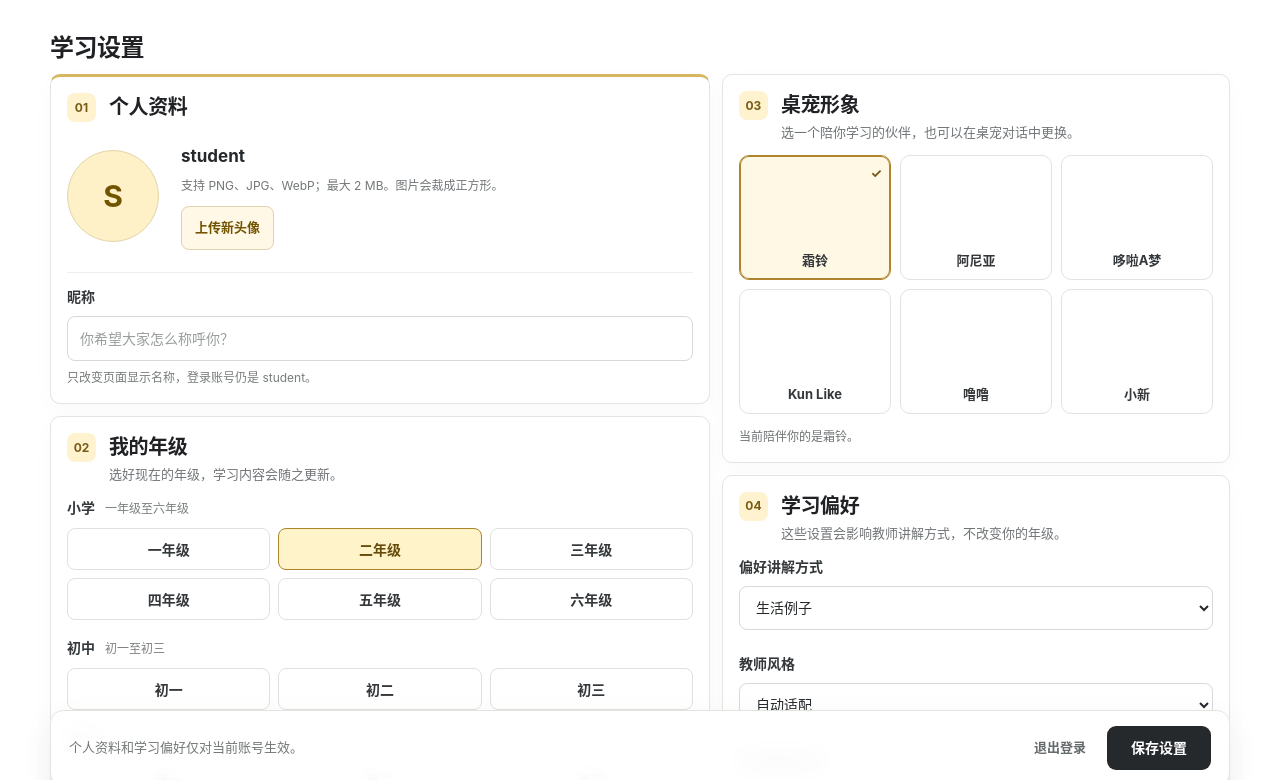
Test: keeps a changed teacher style visible when saving fails
Select "温柔鼓励" in the dropdown labelled "教师风格" at (976, 705), box [739,683,1213,727]
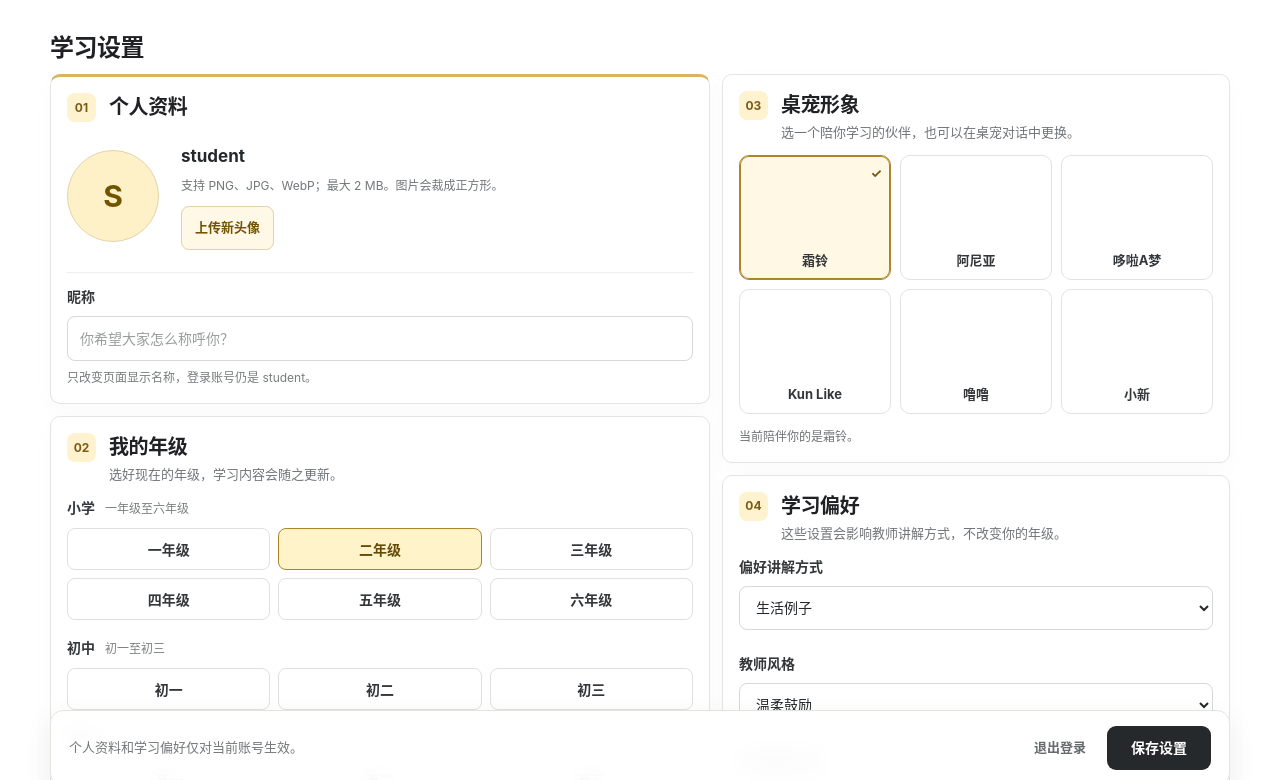
Click the button "保存设置" at (1159, 748), box [1107,726,1211,770]
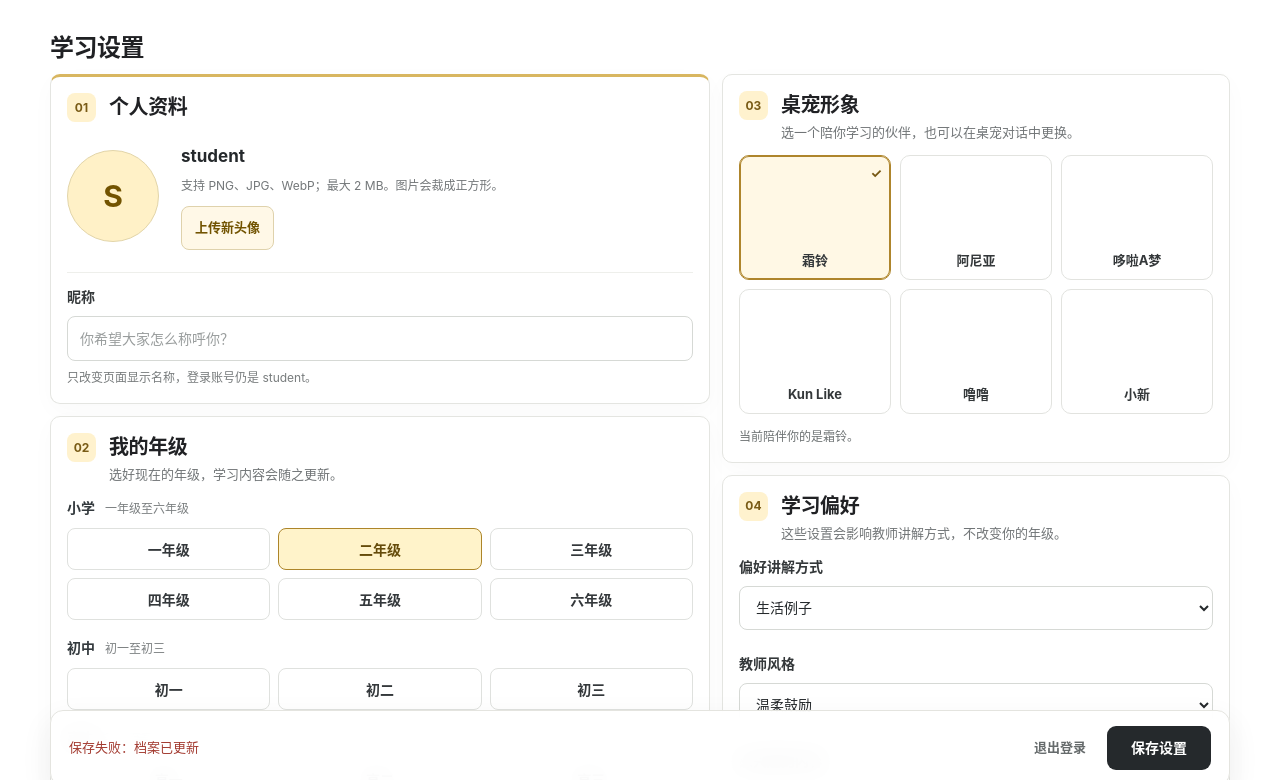
Result: the message "保存失败：档案已更新" is shown at [69,737,199,759]
